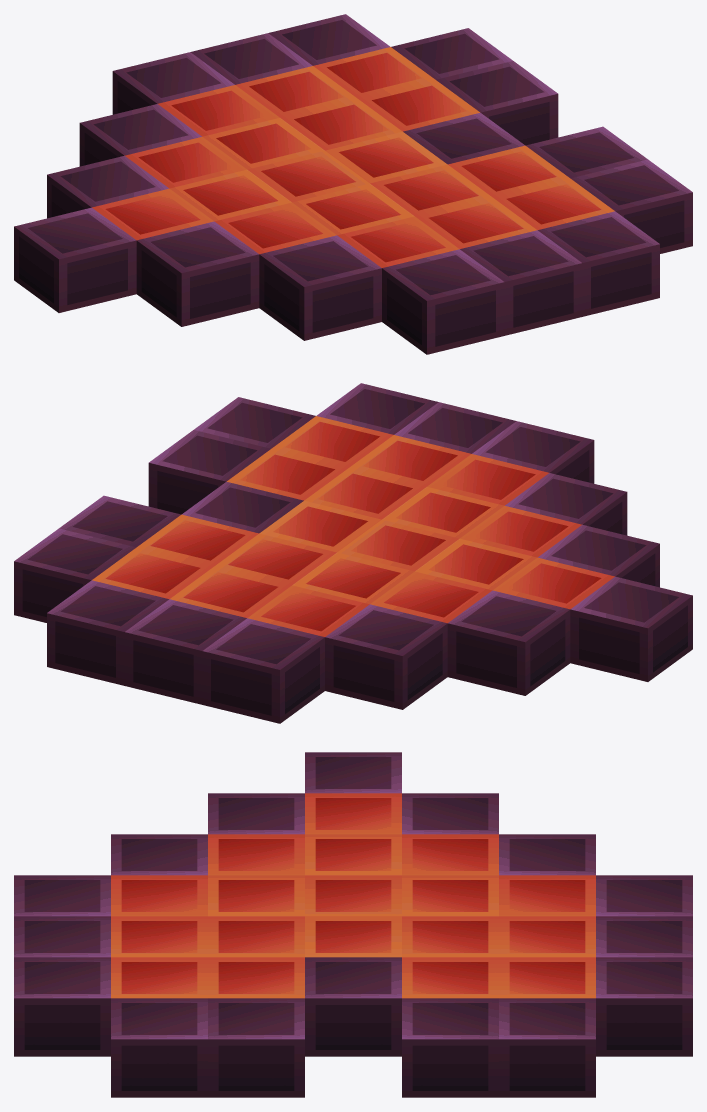
Rendered from SanFrancisco02.glb.
3 views of the same model, one above another, from view 1: azimuth 30°, elevation 25°; view 2: azimuth 150°, elevation 25°; view 3: azimuth 270°, elevation 25° (orthographic). The views are drawn at different scales.
Parts seen in each view (by area): view 1: SanFrancisco02; view 2: SanFrancisco02; view 3: SanFrancisco02.
Boxes of the visible parts, x1=… form: SanFrancisco02: x1=14, y1=14, x2=692, y2=354; SanFrancisco02: x1=14, y1=383, x2=692, y2=723; SanFrancisco02: x1=14, y1=752, x2=692, y2=1097.
Size of the model in its own units: 6.8 by 0.6429 by 6.8.
1 material, 1 textured.
